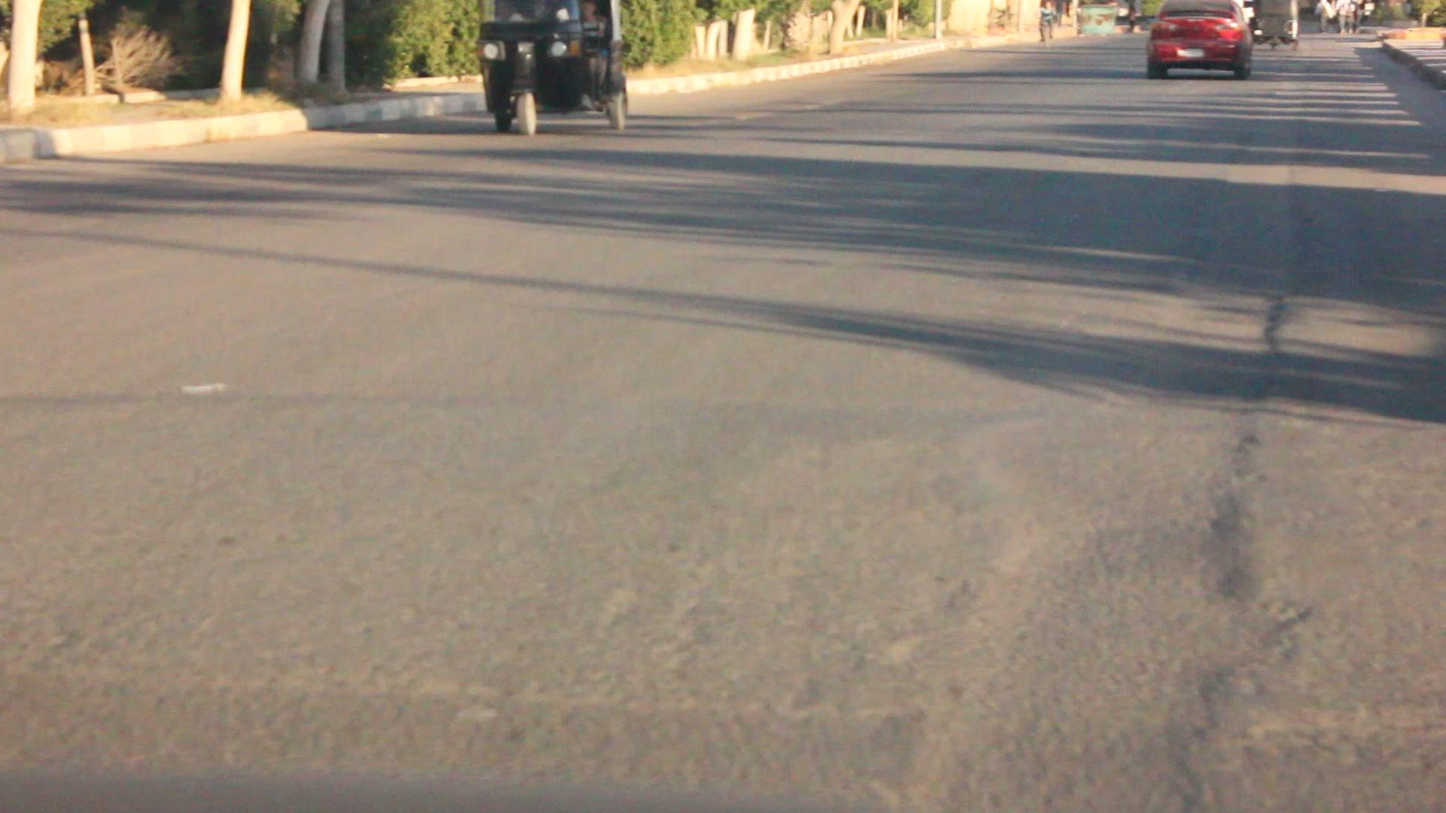Pothole: (904, 314, 1282, 811)
